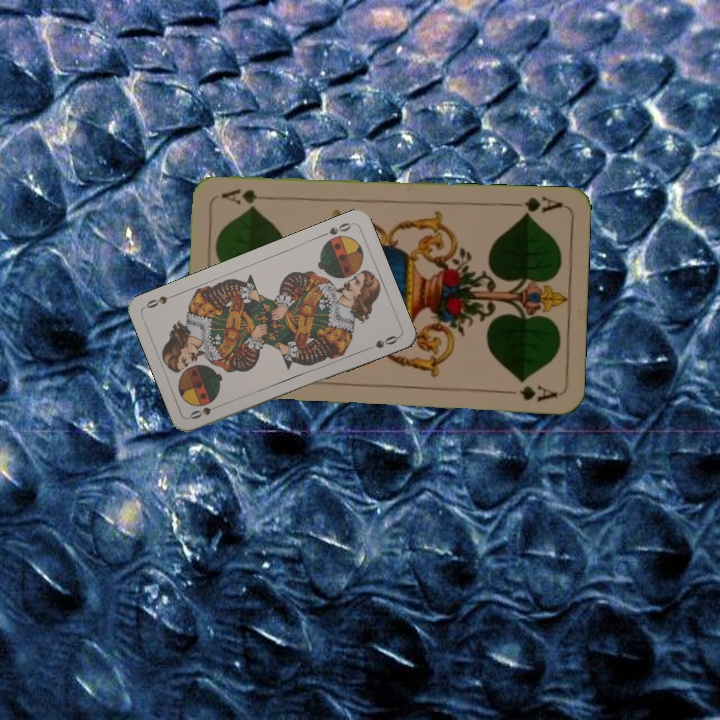GA: (506, 193, 565, 219)
SO: (185, 400, 225, 422), (316, 218, 355, 240)
